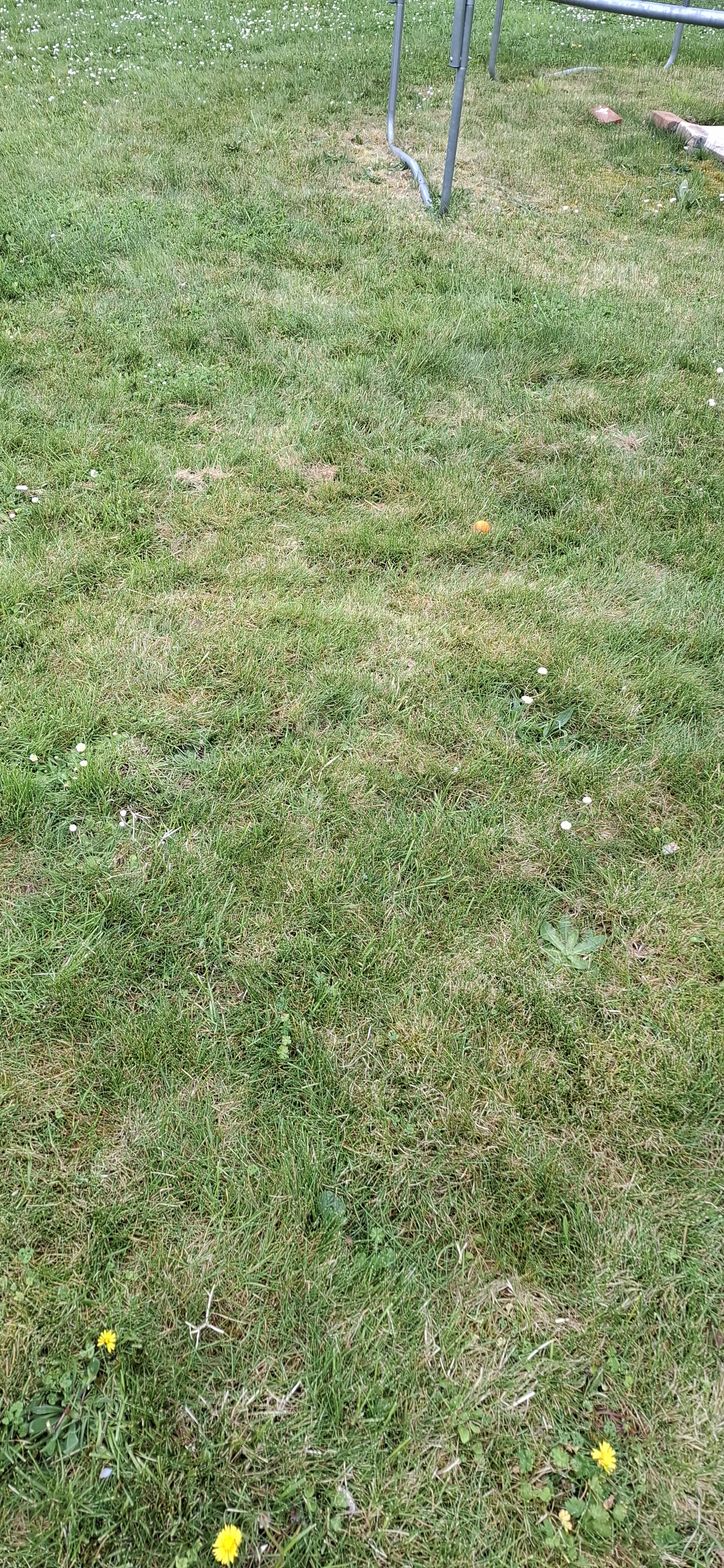ball: (240, 509, 248, 545)
